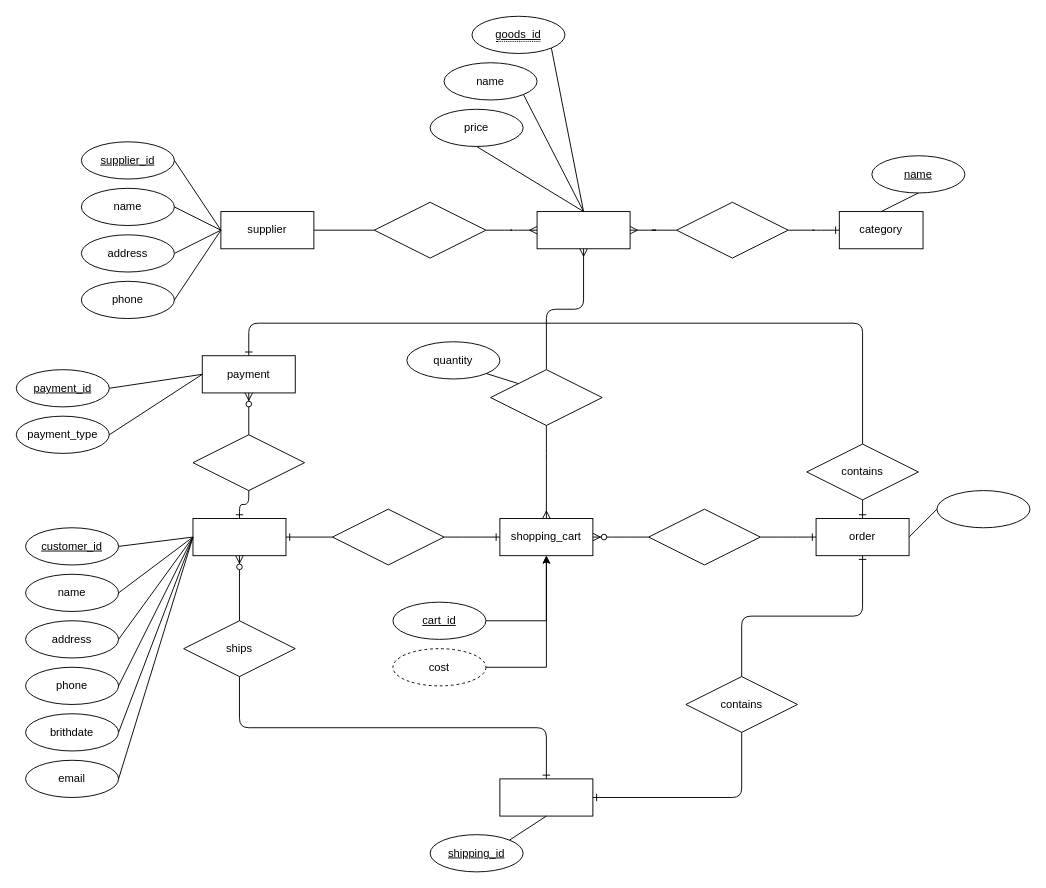
Some shapes in this 1046 by 888 pixel diagram are drawn without their labels. The shapes that lost their labels are listed below. From the top down, each one's centre as x and y in pixels, then its label:
the point at 429,229: supplies
the point at 583,230: goods
the point at 732,229: belongs
the point at 546,397: cart_item
the point at 248,462: has
the point at 983,509: order_id
the point at 239,537: customer
the point at 388,536: owns
the point at 704,536: create
the point at 546,797: shipping
